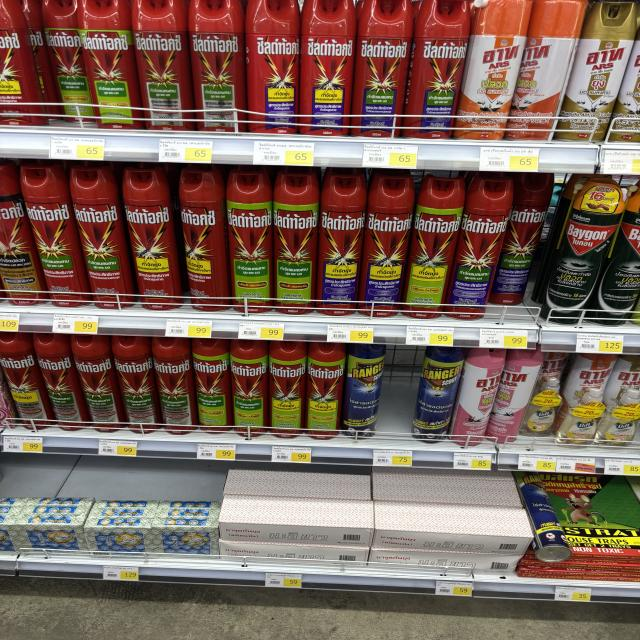empty_shelf: (375, 343, 430, 445)
